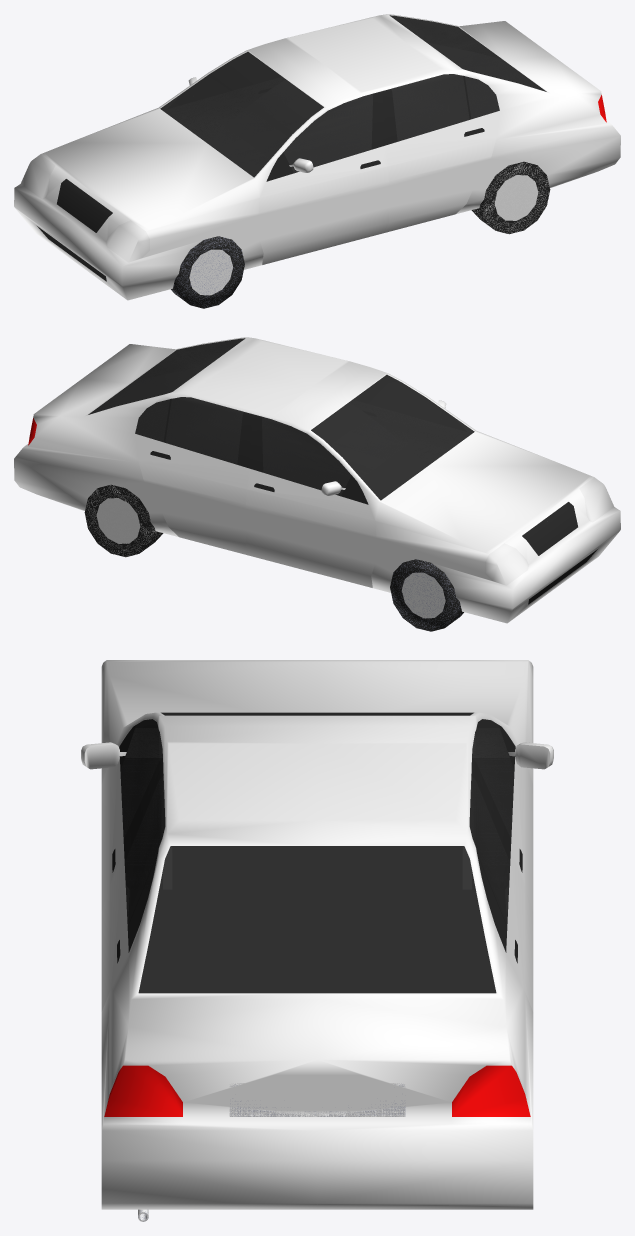
Rendered from car.dae.
The picture shows the model from 3 angles, top to bottom: view 1: azimuth 30°, elevation 25°; view 2: azimuth 150°, elevation 25°; view 3: azimuth 270°, elevation 25°; orthographic projection. The views are drawn at different scales.
Parts seen in each view (by area): view 1: CarCore_2 (×5), CarCore_1 (×5), FrontDoor_2 (×3), BackDoor (×4), WheelBack (×3), Wheel (×3); view 2: CarCore_1 (×5), CarCore_2 (×5), FrontDoorPass (×3), BackDoorPass (×4), WheelBack (×3), Wheel (×3); view 3: CarCore_2 (×3), CarCore_1 (×3), BackDoor (×2), BackDoorPass (×2), FrontDoor_2 (×2), FrontDoorPass (×2), Mirror (×2), SketchUp.
Boxes of the visible parts, <box> form: CarCore_2 (×5): <box>68,42,620,300</box>; CarCore_1 (×5): <box>14,14,552,266</box>; FrontDoor_2 (×3): <box>258,91,388,264</box>; BackDoor (×4): <box>382,74,499,232</box>; WheelBack (×3): <box>471,161,550,234</box>; Wheel (×3): <box>171,236,244,308</box>; CarCore_1 (×5): <box>14,365,566,623</box>; CarCore_2 (×5): <box>82,337,620,589</box>; FrontDoorPass (×3): <box>246,414,376,587</box>; BackDoorPass (×4): <box>135,397,252,555</box>; WheelBack (×3): <box>84,484,163,557</box>; Wheel (×3): <box>390,559,463,631</box>; CarCore_2 (×3): <box>101,660,317,1209</box>; CarCore_1 (×3): <box>317,660,533,1209</box>; BackDoor (×2): <box>101,776,165,1011</box>; BackDoorPass (×2): <box>469,776,533,1011</box>; FrontDoor_2 (×2): <box>101,719,162,911</box>; FrontDoorPass (×2): <box>472,719,533,911</box>; Mirror (×2): <box>81,742,553,769</box>; SketchUp: <box>229,1083,405,1116</box>.
Size of the model in its own units: 188 by 77.3 by 58.82.
